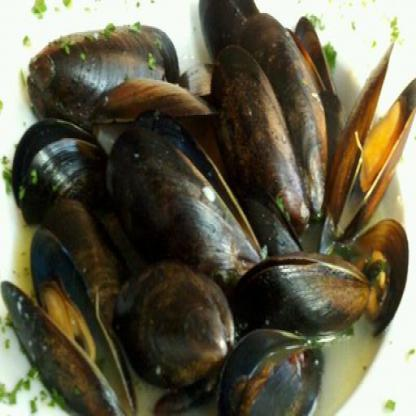mussel: (114, 100, 258, 290), (3, 232, 138, 414), (212, 47, 311, 236), (332, 47, 415, 250), (241, 17, 326, 214), (24, 20, 162, 124), (233, 243, 364, 342)
